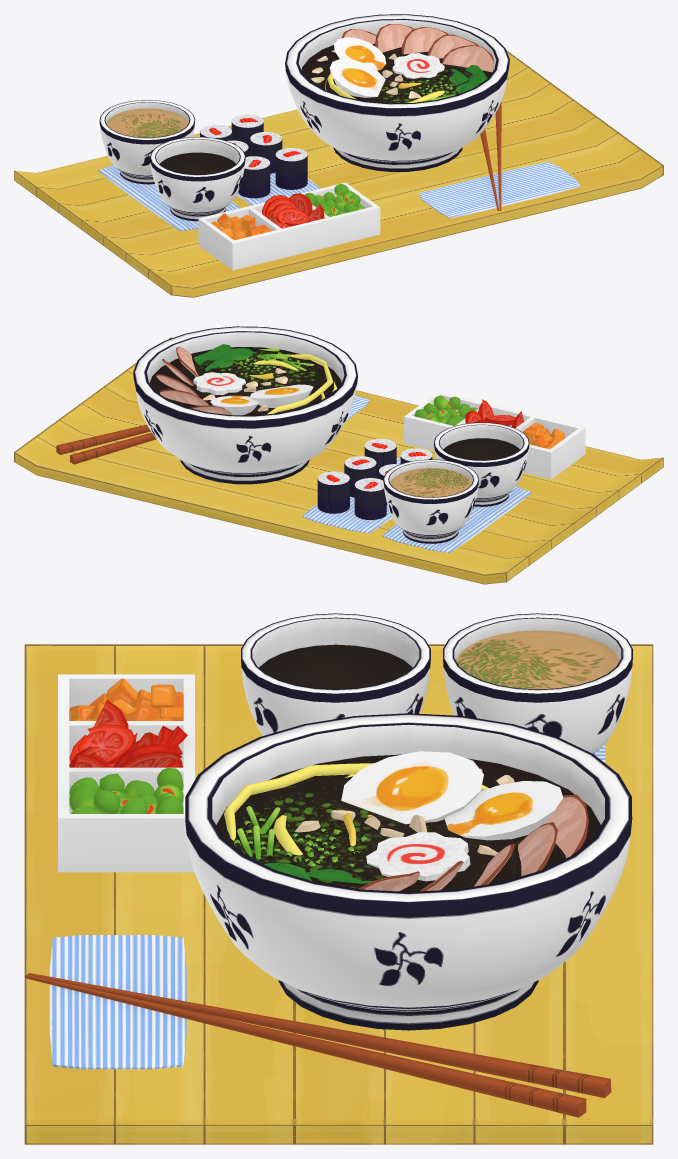
3 views of the same model, one above another, from view 1: azimuth 30°, elevation 25°; view 2: azimuth 150°, elevation 25°; view 3: azimuth 270°, elevation 25° (orthographic). The views are drawn at different scales.
Visible parts, largest first — view 1: table, bowl, miniPlate, cup_01, cloth_00, sushi_00 (×4), cup_00, bowl_liquid, cup_00_liquid, cloth_02, egg_01, cup_01_liquid (+9 smaller); view 2: table, bowl, cup_00, miniPlate, bowl_liquid, cup_01, sushi_00 (×4), cloth_02, cup_00_liquid, cloth_01, cup_01_liquid, noodle (+7 smaller); view 3: table, bowl, cloth_00, miniPlate, bowl_liquid, cup_01, cup_00, egg_01, chopstick_01, chopstick_00, cup_00_liquid, cup_01_liquid (+7 smaller).
Boxes of the visible parts, x1,y1,x2,y2 form: table: (14,50,663,297); bowl: (285,14,509,171); miniPlate: (198,182,380,270); cup_01: (150,137,245,221); cloth_00: (418,162,580,218); sushi_00 (×4): (231,114,307,198); cup_00: (99,100,195,184); bowl_liquid: (301,43,491,103); cup_00_liquid: (106,108,188,137); cloth_02: (98,164,240,231); egg_01: (329,58,385,97); cup_01_liquid: (160,152,235,174); table: (14,337,663,584); bowl: (133,326,357,484); cup_00: (383,459,478,543); miniPlate: (404,391,585,479); bowl_liquid: (149,347,341,415); cup_01: (434,422,529,506); sushi_00 (×4): (317,439,396,519); cloth_02: (382,486,531,552); cup_00_liquid: (390,468,471,497); cloth_01: (302,458,400,533); cup_01_liquid: (443,438,519,460); noodle: (249,354,337,414); table: (24,644,653,1144); bowl: (185,713,632,1030); cloth_00: (49,935,186,1069); miniPlate: (58,674,194,872); bowl_liquid: (216,754,600,891); cup_01: (241,613,430,735); cup_00: (443,613,632,753); egg_01: (341,751,483,824); chopstick_01: (24,974,586,1117); chopstick_00: (28,973,611,1098); cup_00_liquid: (456,630,619,689); cup_01_liquid: (259,644,412,689).
Bounding box in the file's own units: 6.44 × 1.2 × 3.55.
4 materials, 4 textured.
